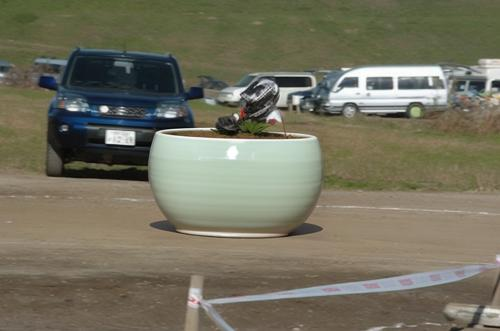car: (38, 46, 207, 179), (319, 63, 451, 120), (217, 71, 319, 108)
person: (202, 78, 293, 237)
person/foot: (204, 217, 229, 236)
person/hand: (216, 116, 233, 132), (228, 160, 246, 175)
person/head: (241, 78, 281, 122)
pottedplant: (145, 122, 324, 237)
